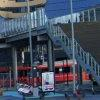stairs: (35, 24, 95, 92), (72, 30, 99, 99)
